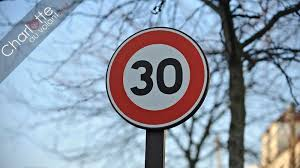Speed_limit_30km: (107, 28, 209, 129)
